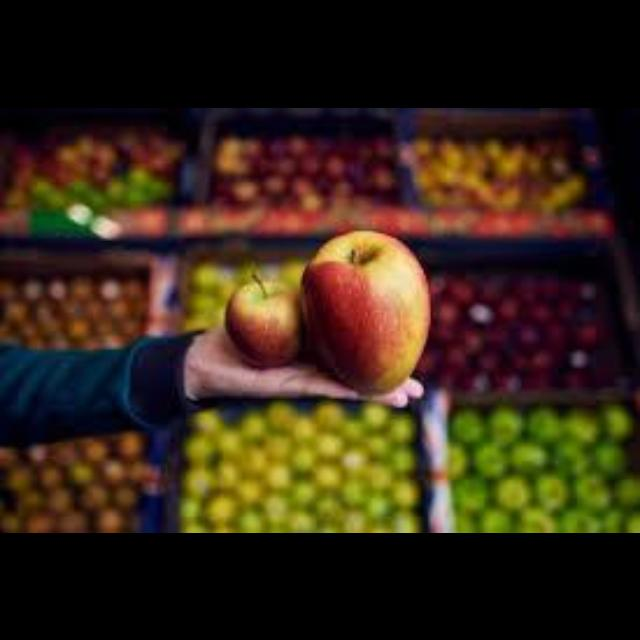apple: (303, 230, 428, 393), (226, 272, 300, 365)
